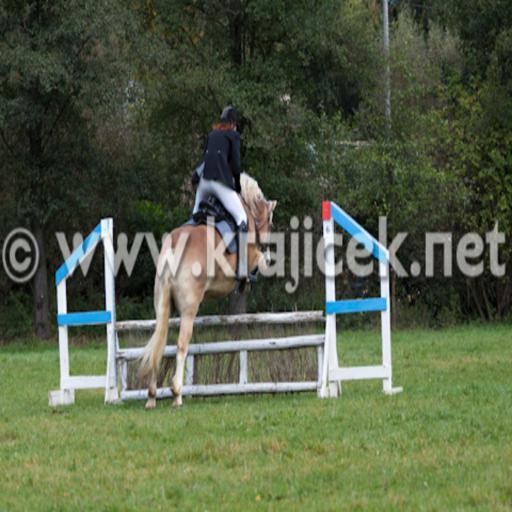horse: (136, 170, 278, 412)
